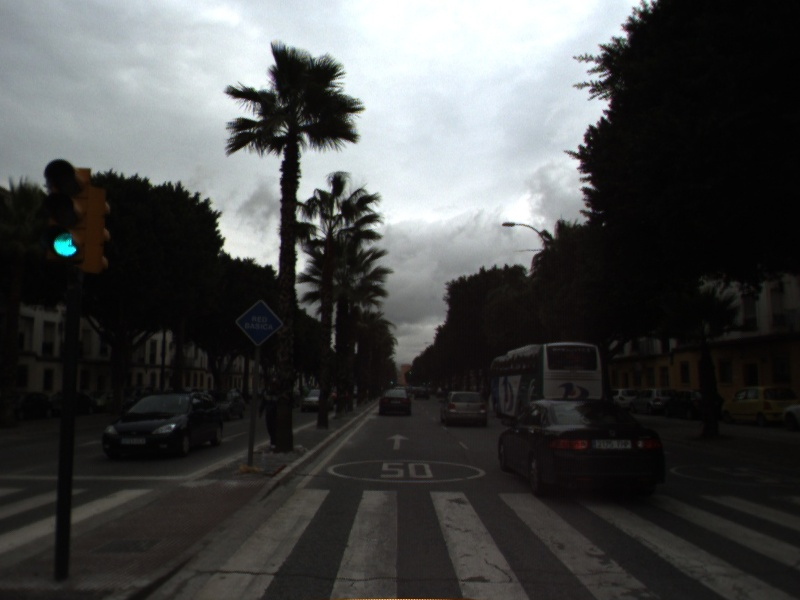STRAIGHT: (384, 431, 411, 452)
